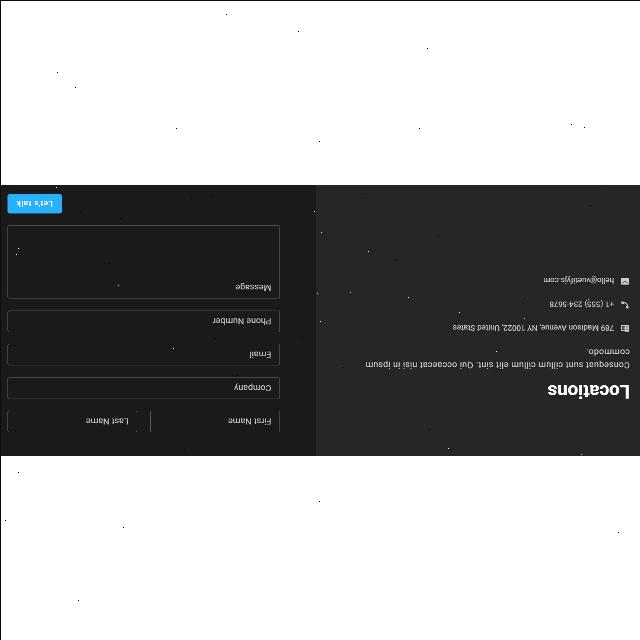QLabel: (364, 348, 630, 369), (546, 384, 630, 402), (452, 324, 614, 331), (541, 276, 615, 284), (548, 300, 614, 308), (12, 200, 54, 208)
VBtn: (6, 192, 62, 214)
VIcon: (619, 277, 629, 285), (620, 324, 628, 332), (620, 300, 628, 308)
VTextField: (6, 308, 280, 334), (6, 376, 280, 400), (7, 342, 280, 366), (148, 410, 280, 434), (5, 411, 136, 434)
VTextarea: (6, 223, 280, 299)
